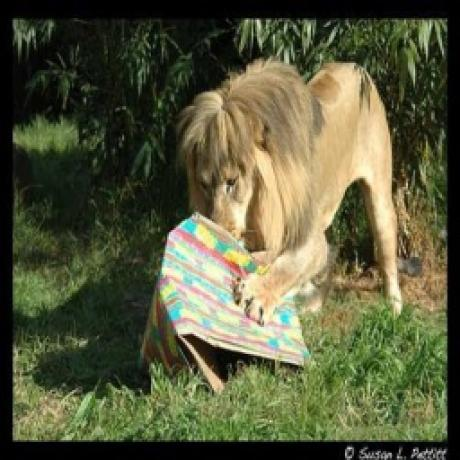Lion: (174, 60, 402, 325)
